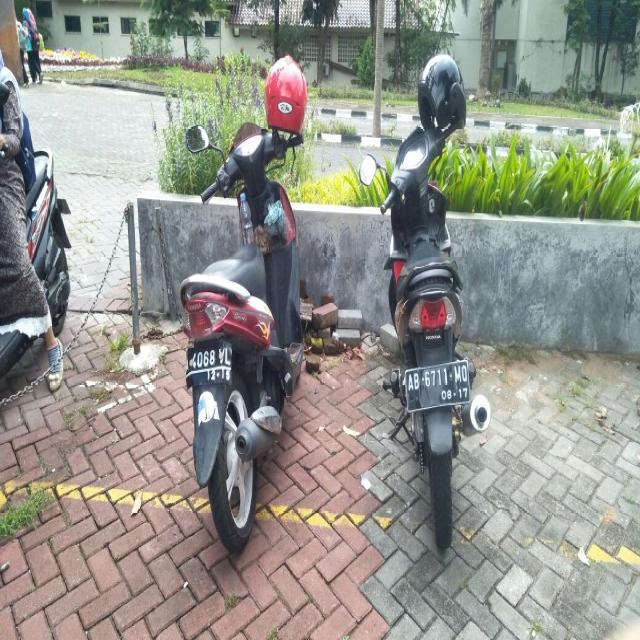plate: (404, 361, 471, 405), (186, 339, 232, 386)
